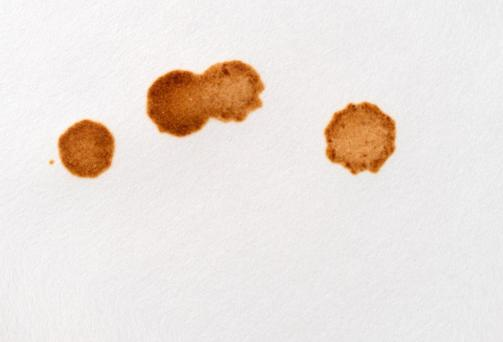stain: (145, 57, 270, 141), (321, 97, 405, 178), (53, 113, 123, 182)
